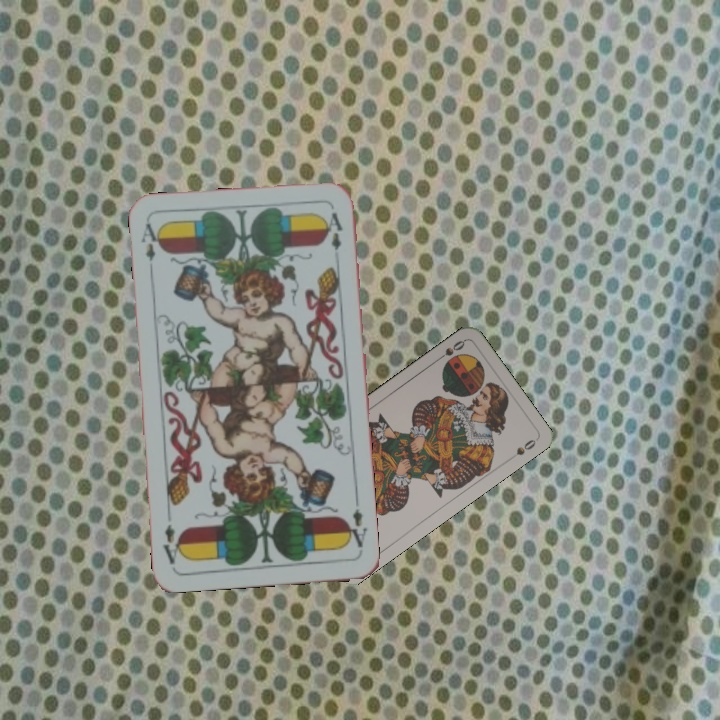EA: (137, 219, 164, 277), (342, 505, 369, 550)
SO: (432, 336, 468, 364)
